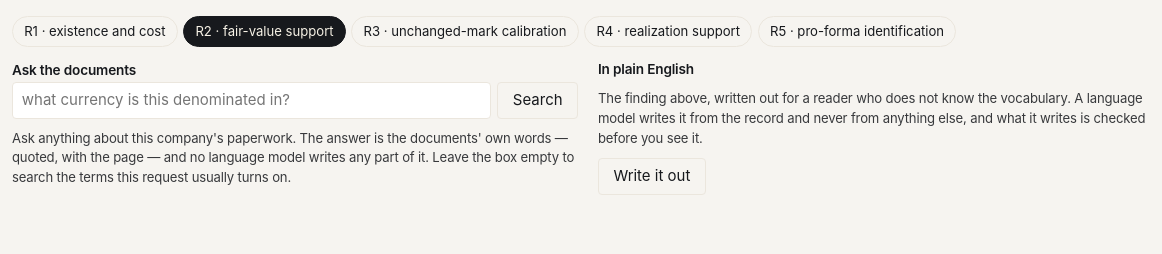
Test: asking the documents › says the documents address it nowhere rather than showing an empty list
The width and height of the screenshot is (1162, 254).
Click the button "Search": (538, 100) [497, 82, 578, 119]
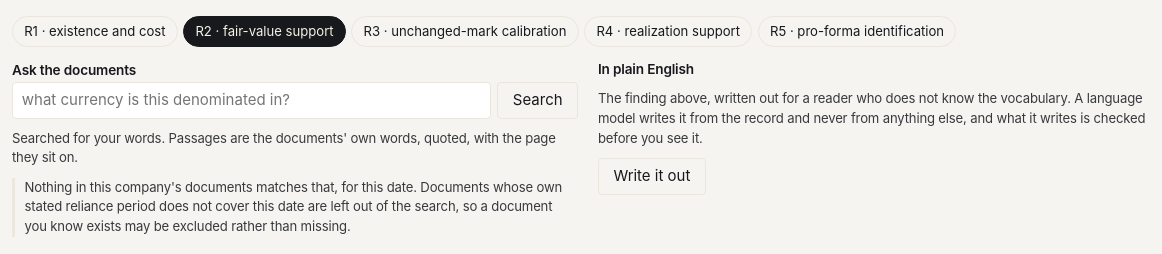
Now the text "stated reliance period" is shown, box [25, 179, 562, 234]
